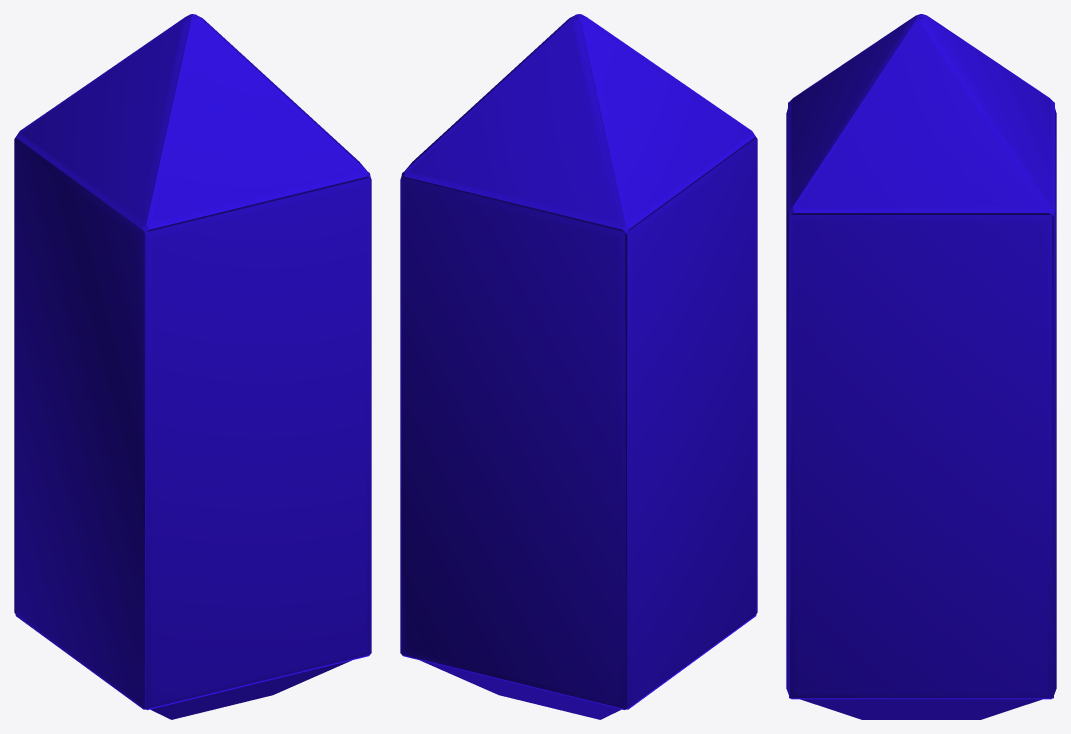
Rendered from TempMaterial.fbx.
The picture shows the model from 3 angles, left to right: view 1: azimuth 30°, elevation 25°; view 2: azimuth 150°, elevation 25°; view 3: azimuth 270°, elevation 25°; orthographic projection.
Parts seen in each view (by area): view 1: Box001; view 2: Box001; view 3: Box001.
Boxes of the visible parts, <box> form: Box001: <box>14,14,371,719</box>; Box001: <box>400,14,757,719</box>; Box001: <box>786,14,1056,719</box>.
Bounding box in the file's own units: 5 × 13.9 × 5.
